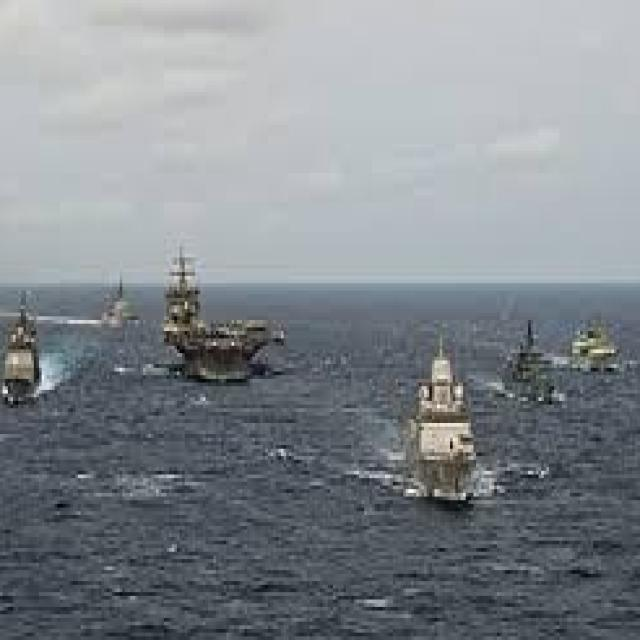navalvessels: (390, 320, 474, 504), (152, 251, 280, 369), (497, 311, 548, 410), (87, 261, 139, 337), (0, 298, 36, 404), (566, 310, 622, 375)
